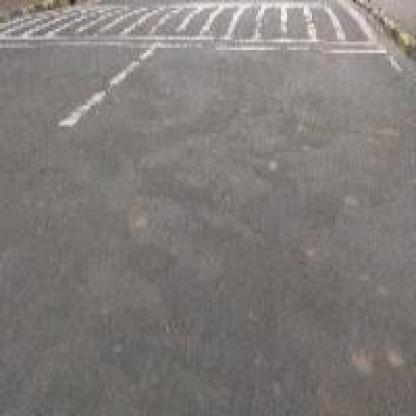Speed Bump: (0, 0, 393, 58)
